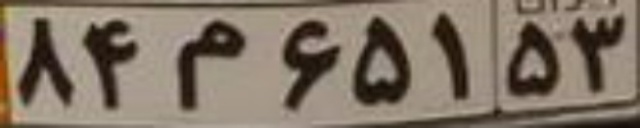1: (428, 11, 471, 98)
3: (566, 11, 627, 93)
4: (79, 19, 135, 110)
5: (347, 16, 412, 105), (506, 22, 559, 95)
6: (276, 18, 340, 110)
8: (17, 15, 72, 106)
mim: (174, 18, 244, 109)
